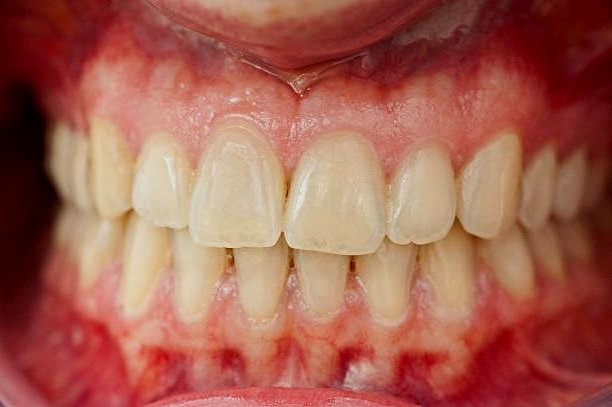Gingivitis: (351, 19, 475, 90), (101, 20, 247, 79), (382, 345, 448, 399), (318, 337, 366, 389)
